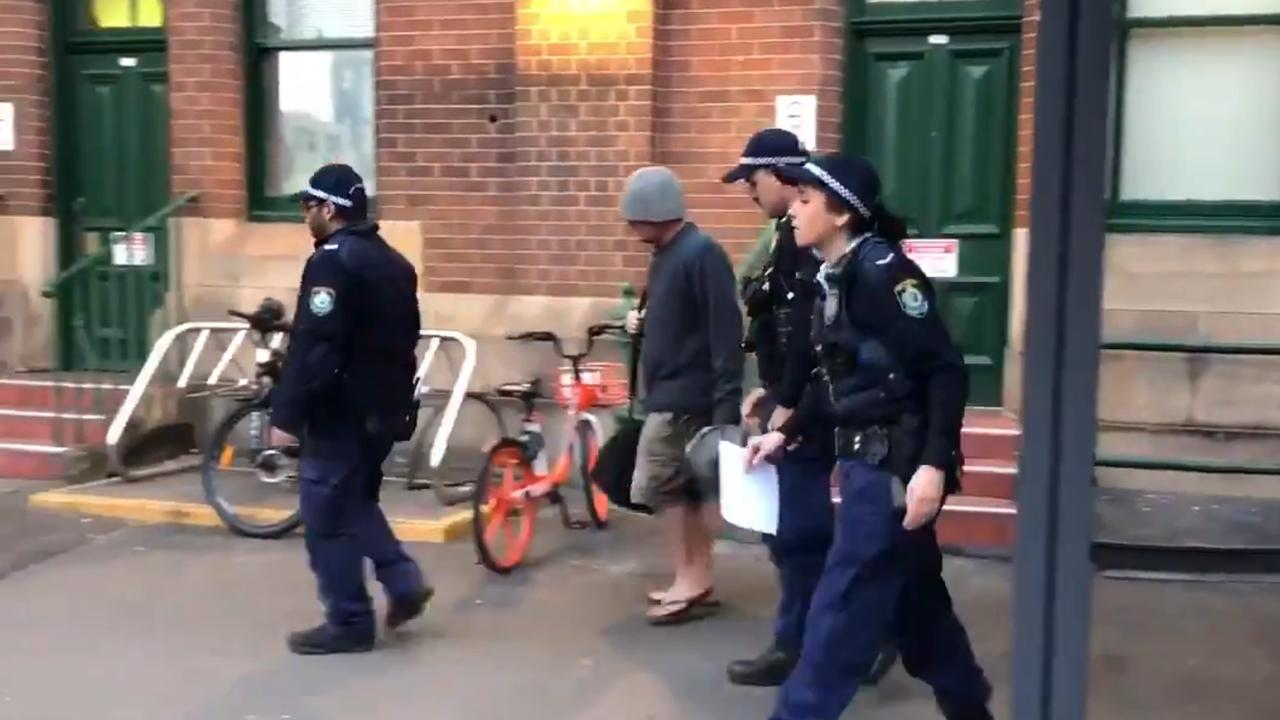Person: (784, 154, 994, 720), (282, 164, 431, 653), (620, 161, 730, 625), (722, 128, 794, 687)
